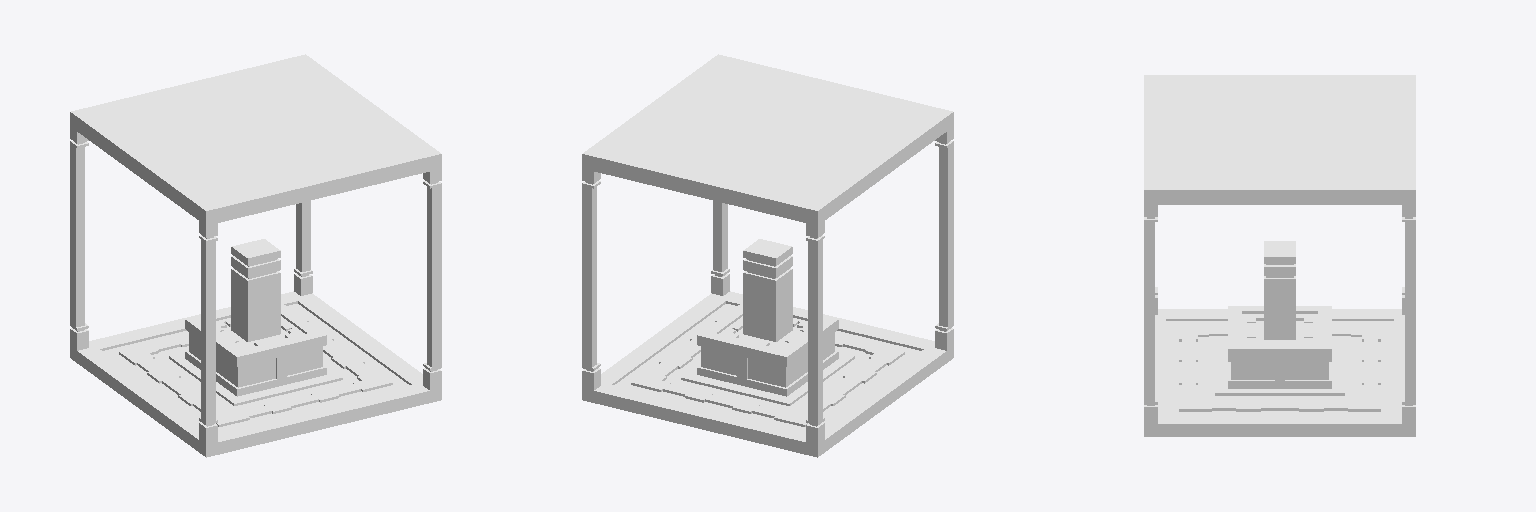
File: open_cube_1.obj
3 renders of one model, left to right at view 1: azimuth 30°, elevation 25°; view 2: azimuth 150°, elevation 25°; view 3: azimuth 270°, elevation 25°, orthographic.
Parts seen in each view (by area): view 1: open_cube_1; view 2: open_cube_1; view 3: open_cube_1.
Boxes of the visible parts, <box> form: open_cube_1: <box>70,54,441,457</box>; open_cube_1: <box>582,54,953,457</box>; open_cube_1: <box>1144,75,1415,436</box>.
Bounding box in the file's own units: 100 × 100 × 100.